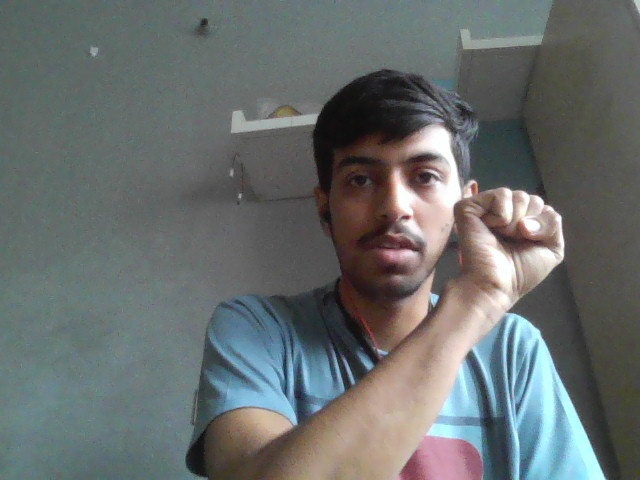Yes: (454, 185, 567, 302)
